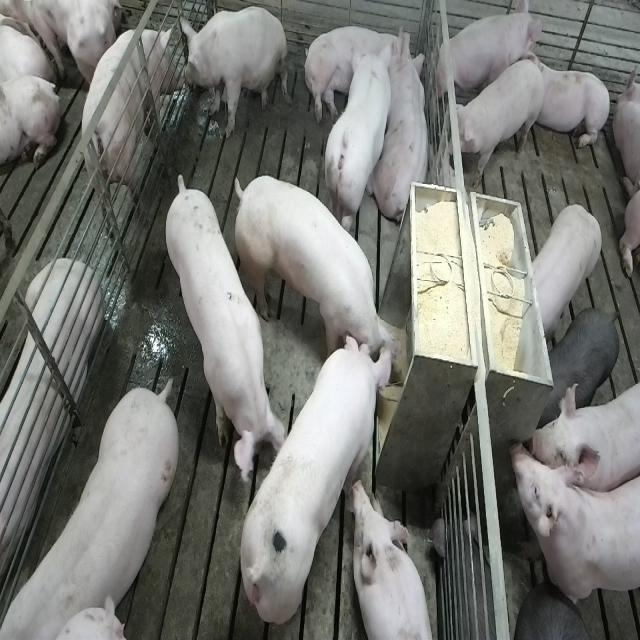Feeding: (236, 334, 397, 625), (230, 167, 402, 381)
Lateral_lying: (304, 18, 414, 124)
Sitting: (178, 6, 287, 141), (436, 2, 543, 98)
Standing: (5, 375, 183, 635), (161, 176, 282, 487), (506, 437, 638, 610), (82, 26, 182, 229), (530, 377, 637, 496), (324, 50, 391, 239), (448, 62, 545, 189), (529, 203, 602, 341), (535, 308, 619, 427), (515, 587, 600, 640)
Sternal_lying: (0, 260, 100, 596), (352, 483, 437, 640), (518, 49, 614, 156)
